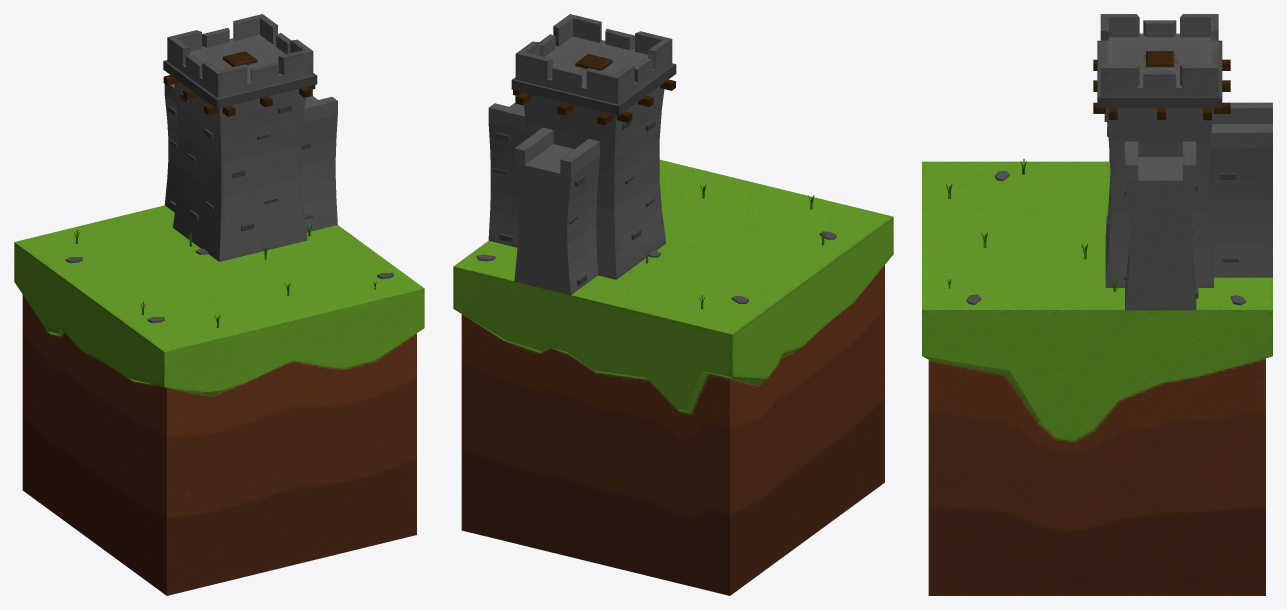
File: Concepts_29.fbx
3 views of the same model, side by side, from view 1: azimuth 30°, elevation 25°; view 2: azimuth 150°, elevation 25°; view 3: azimuth 270°, elevation 25° (orthographic). The views are drawn at different scales.
Visible parts, largest first — view 1: Cube.315, Cube.314, Cube.316; view 2: Cube.315, Cube.314, Cube.316; view 3: Cube.315, Cube.314, Cube.316.
Part boxes in pixels (box(x1,y1,x2,y2)): Cube.315: box(14, 205, 424, 595); Cube.314: box(163, 14, 337, 261); Cube.316: box(65, 222, 393, 327); Cube.315: box(453, 159, 893, 595); Cube.314: box(488, 14, 676, 294); Cube.316: box(476, 185, 836, 309); Cube.315: box(922, 161, 1272, 595); Cube.314: box(1093, 14, 1272, 310); Cube.316: box(946, 159, 1245, 305).
Bounding box in the file's own units: 301 × 484 × 301.
